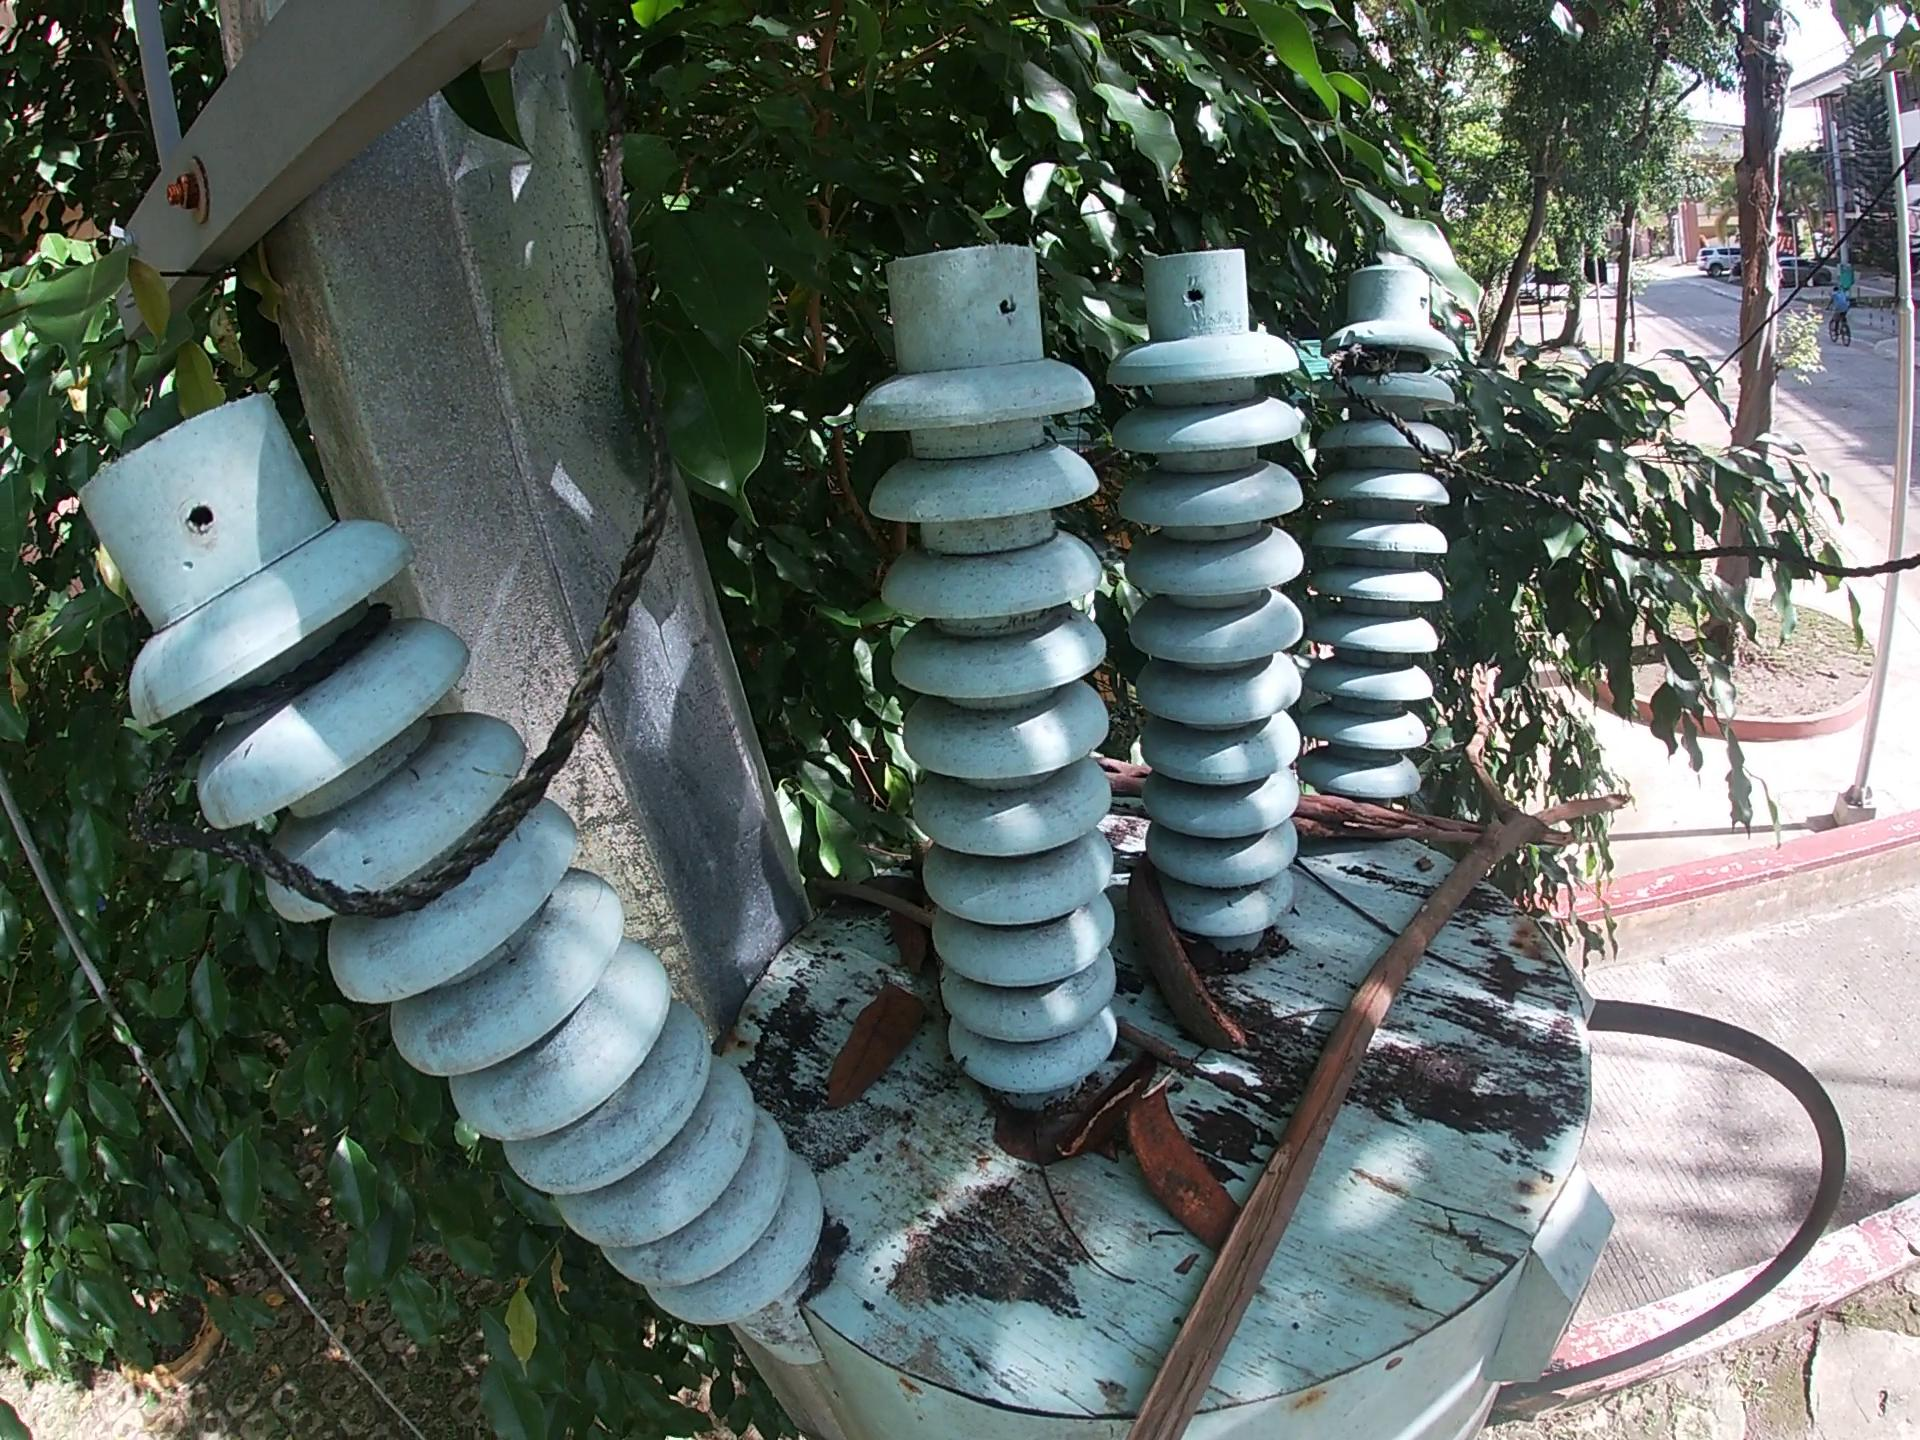leaf: (825, 979, 910, 1110), (989, 1094, 1048, 1162)
mahogany fruit: (1134, 871, 1262, 1059), (1123, 1072, 1226, 1248)
tree branch: (1081, 714, 1661, 1434), (1296, 858, 1512, 988), (1031, 1171, 1149, 1289), (1293, 793, 1500, 846), (1049, 1075, 1146, 1165), (884, 864, 943, 1006), (825, 874, 942, 917), (1113, 1016, 1200, 1072), (1095, 746, 1141, 793)
